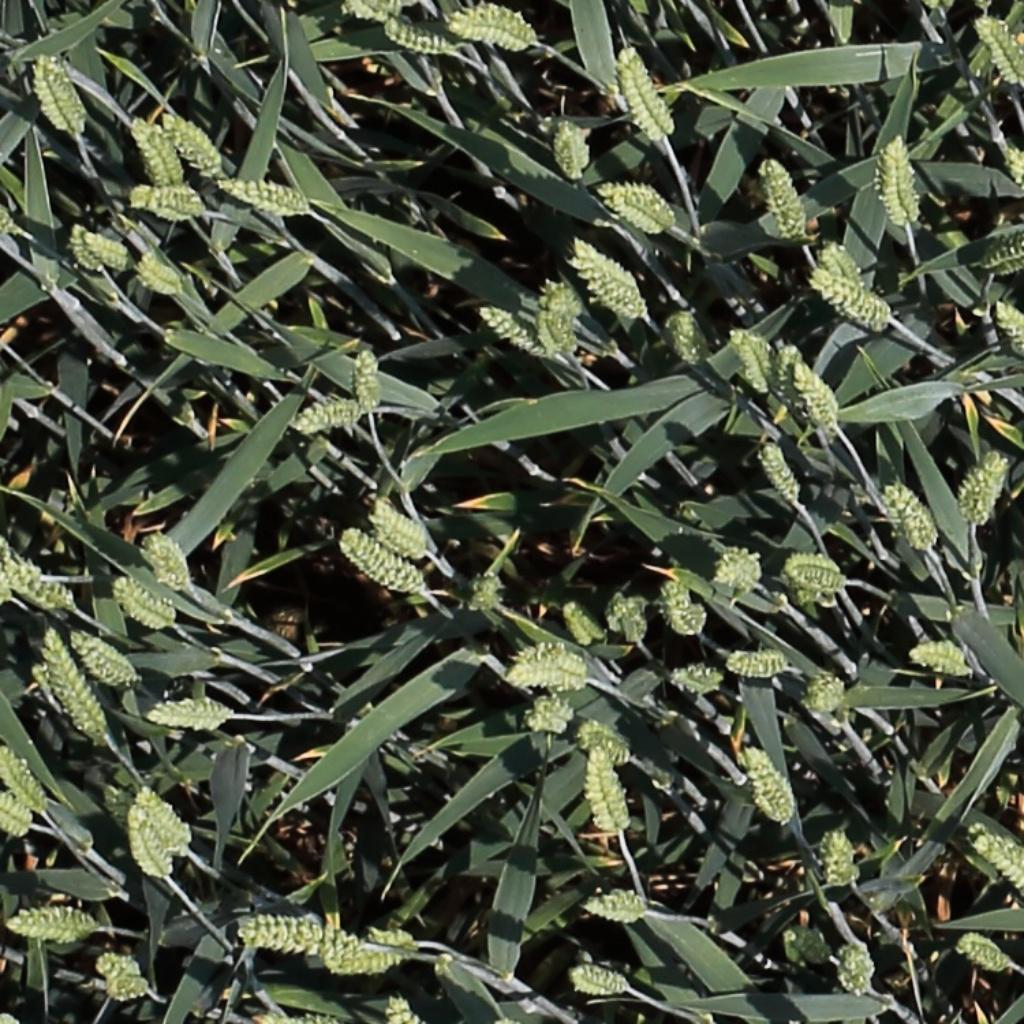0-0: (36, 626, 109, 750), (619, 43, 679, 147), (570, 237, 647, 314), (339, 529, 424, 595), (742, 742, 798, 830), (31, 51, 86, 139), (158, 106, 226, 177), (220, 909, 363, 942), (128, 109, 184, 191), (812, 270, 892, 327), (119, 803, 171, 889), (886, 477, 940, 557), (141, 786, 201, 857), (790, 354, 846, 430), (763, 151, 809, 243), (5, 888, 99, 933), (504, 642, 592, 688), (973, 12, 1024, 91), (0, 741, 50, 821), (69, 630, 139, 686), (150, 690, 234, 736), (970, 830, 1024, 899), (760, 436, 809, 512), (0, 559, 73, 610), (141, 528, 195, 595), (730, 323, 778, 398), (477, 303, 546, 354), (588, 745, 623, 842), (111, 577, 176, 629), (964, 451, 1005, 533), (887, 131, 921, 229), (218, 176, 312, 211), (371, 501, 431, 555), (660, 574, 707, 641), (542, 274, 576, 363), (129, 188, 215, 223), (604, 187, 674, 229), (820, 234, 869, 294), (575, 717, 633, 767), (454, 9, 537, 43), (559, 595, 607, 653), (385, 16, 456, 55), (99, 949, 146, 1005), (787, 546, 844, 590), (555, 111, 587, 187), (674, 300, 708, 371), (86, 226, 133, 277), (62, 225, 103, 283), (610, 589, 649, 649), (775, 335, 805, 413), (991, 293, 1024, 363), (841, 936, 876, 1002), (325, 945, 406, 973), (354, 341, 383, 419), (910, 645, 974, 678), (957, 936, 1013, 973), (290, 402, 364, 430), (521, 696, 574, 734), (135, 252, 184, 292), (827, 824, 854, 894), (718, 548, 763, 588), (787, 929, 835, 965), (980, 229, 1022, 267), (806, 677, 849, 714), (786, 565, 847, 591), (569, 969, 634, 993), (469, 569, 503, 613), (364, 924, 423, 948), (95, 782, 130, 822), (0, 790, 31, 835), (981, 241, 1024, 271), (1000, 137, 1024, 190), (350, 0, 402, 23), (726, 656, 791, 674), (383, 987, 416, 1022), (585, 901, 649, 918), (0, 502, 16, 569), (670, 671, 726, 690), (0, 577, 12, 595)
